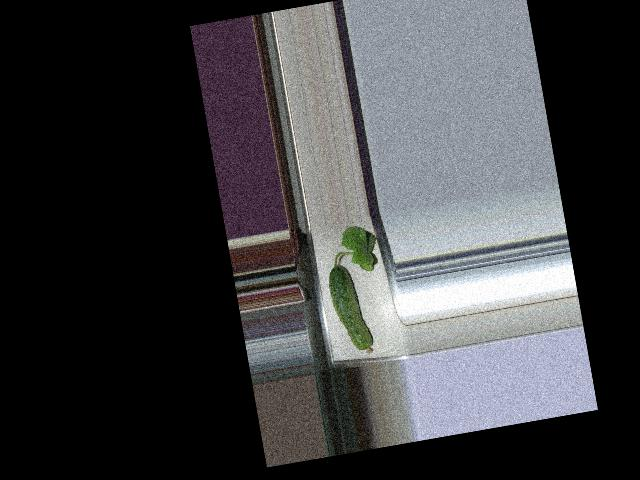cucumber: (325, 260, 374, 358)
